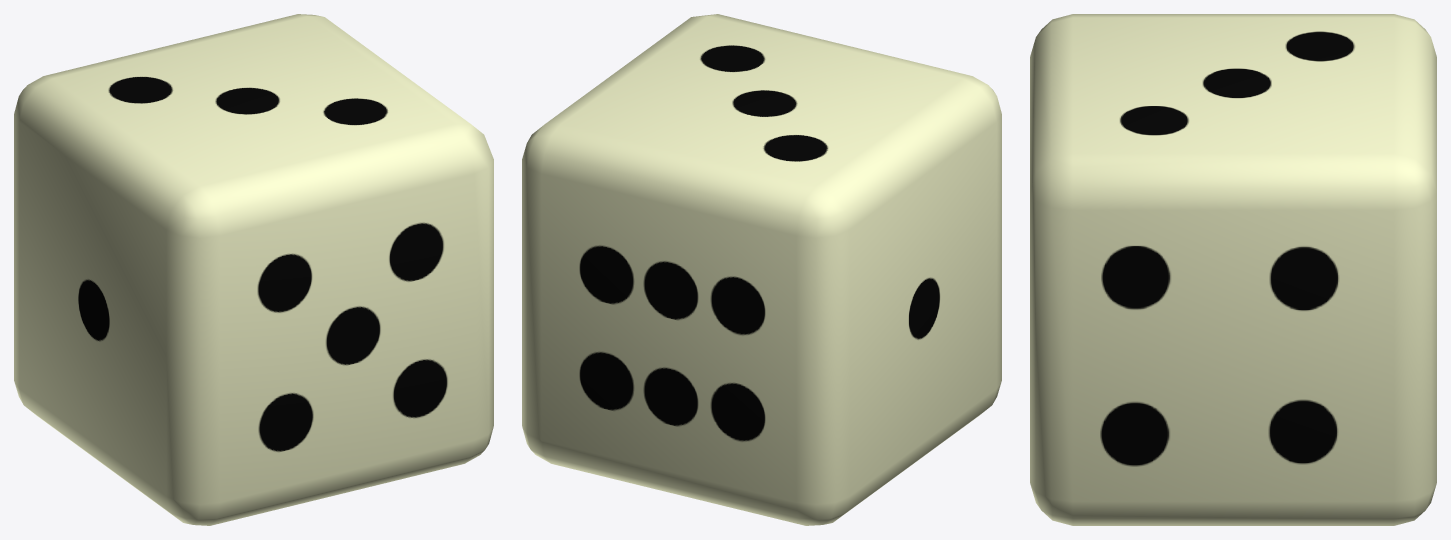
The model's file is Diceupdate.fbx.
3 renders of one model, left to right at view 1: azimuth 30°, elevation 25°; view 2: azimuth 150°, elevation 25°; view 3: azimuth 270°, elevation 25°, orthographic. The views are drawn at different scales.
Visible parts, largest first — view 1: Cube; view 2: Cube; view 3: Cube.
Boxes of the visible parts, bbox=[...] form: Cube: bbox=[14, 14, 493, 525]; Cube: bbox=[522, 14, 1001, 525]; Cube: bbox=[1030, 14, 1436, 525].
Bounding box in the file's own units: 200 × 200 × 200.
Materials: 1 (1 with a texture image).
